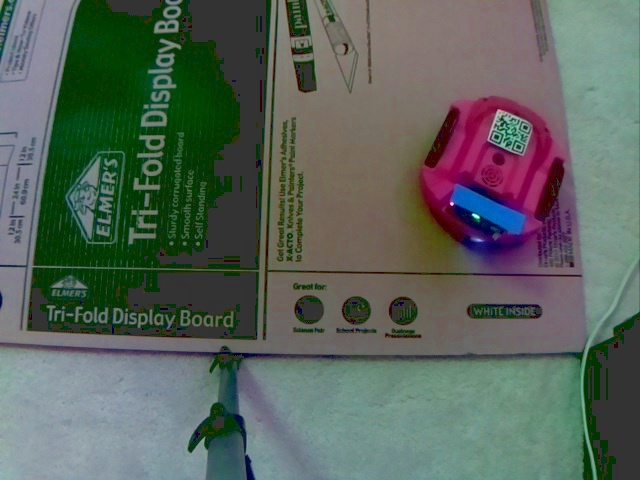board: (444, 183, 530, 245)
chassis: (417, 89, 568, 258)
